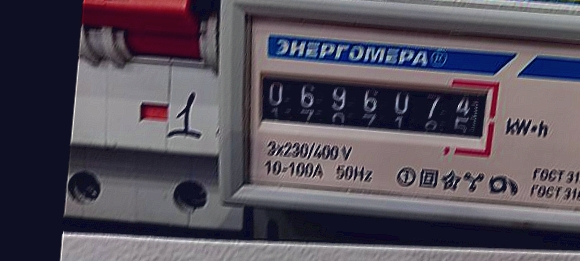0: (266, 78, 287, 105), (393, 87, 412, 114)
4: (455, 91, 473, 115)
5: (453, 114, 471, 136)
6: (361, 84, 381, 112), (298, 80, 318, 107)
7: (425, 91, 443, 118)
9: (330, 82, 348, 109)
screen: (245, 57, 504, 159)
